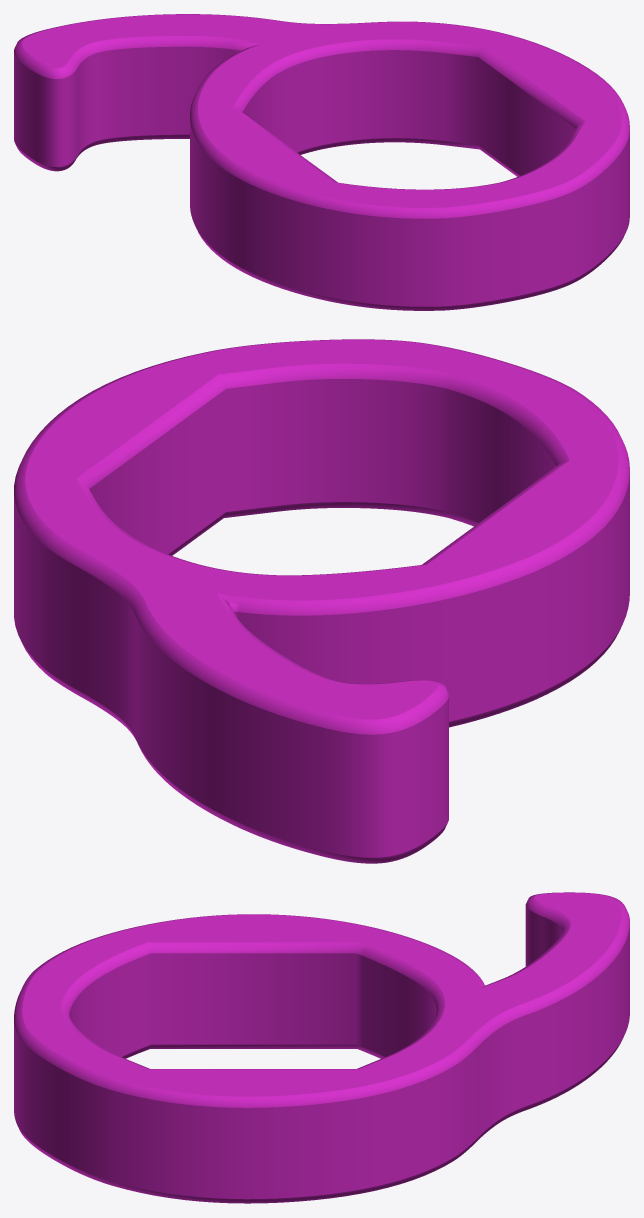
The model's file is Letter_Q.fbx.
The picture shows the model from 3 angles, top to bottom: view 1: azimuth 30°, elevation 25°; view 2: azimuth 150°, elevation 25°; view 3: azimuth 270°, elevation 25°; orthographic projection. The views are drawn at different scales.
Visible parts, largest first — view 1: Letter_Q; view 2: Letter_Q; view 3: Letter_Q.
Part boxes in pixels (bbox=[...]): Letter_Q: bbox=[14, 14, 629, 310]; Letter_Q: bbox=[14, 339, 629, 863]; Letter_Q: bbox=[14, 892, 629, 1203].
Bounding box in the file's own units: 0.595 × 0.14 × 0.7337.
